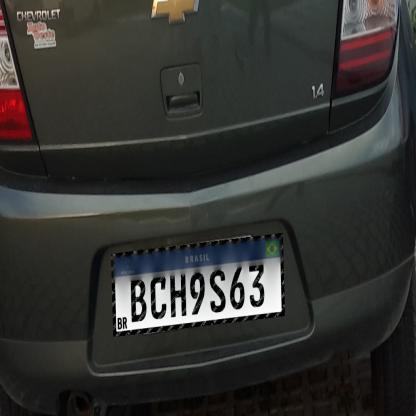PlacaM: (111, 233, 285, 337)
